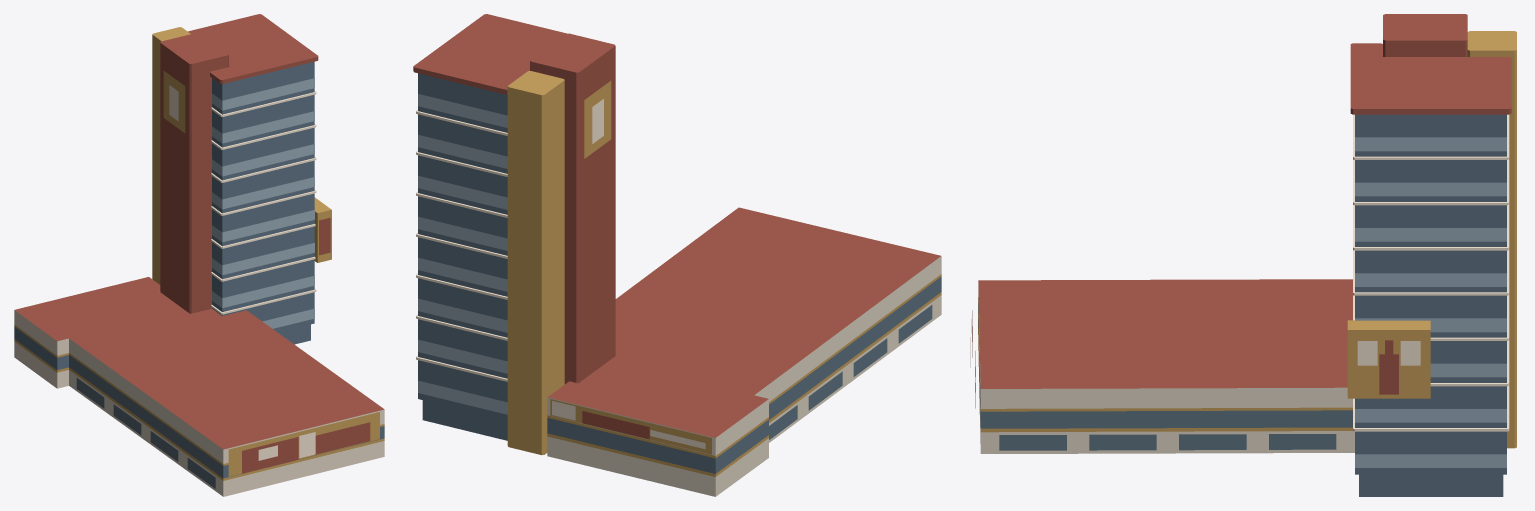
Rendered from mexico-city-unam-rectoria.glb.
3 views of the same model, side by side, from view 1: azimuth 30°, elevation 25°; view 2: azimuth 150°, elevation 25°; view 3: azimuth 270°, elevation 25° (orthographic). The views are drawn at different scales.
Visible parts, largest first — view 1: Torre de Rectoría UNAM; view 2: Torre de Rectoría UNAM; view 3: Torre de Rectoría UNAM.
Boxes of the visible parts, x1=… form: Torre de Rectoría UNAM: x1=14, y1=14, x2=384, y2=496; Torre de Rectoría UNAM: x1=413, y1=14, x2=941, y2=496; Torre de Rectoría UNAM: x1=970, y1=14, x2=1516, y2=496.
Size of the model in its own units: 53.87 by 59.5 by 72.74.
